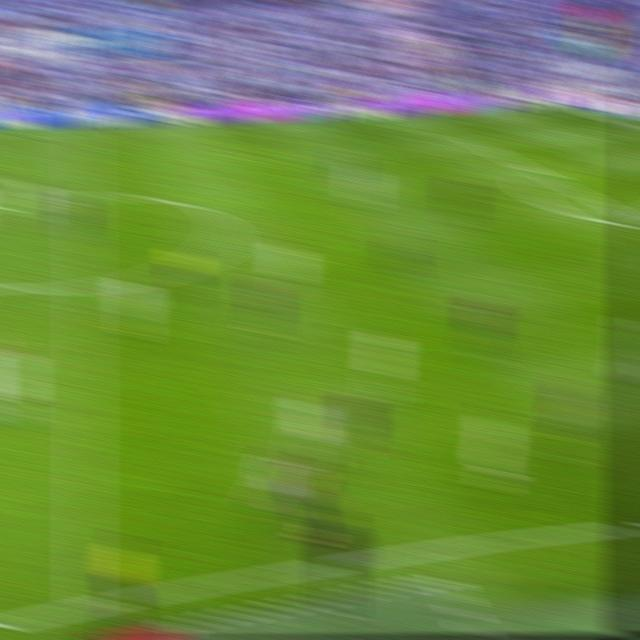halfcircle_bottom: (71, 272, 98, 301)
halfcircle_top: (70, 185, 96, 208)
midline_bottom_intersection: (68, 591, 100, 618)
midline_top_intersection: (71, 124, 94, 137)
top_arc_area_intersection: (529, 164, 555, 183)
